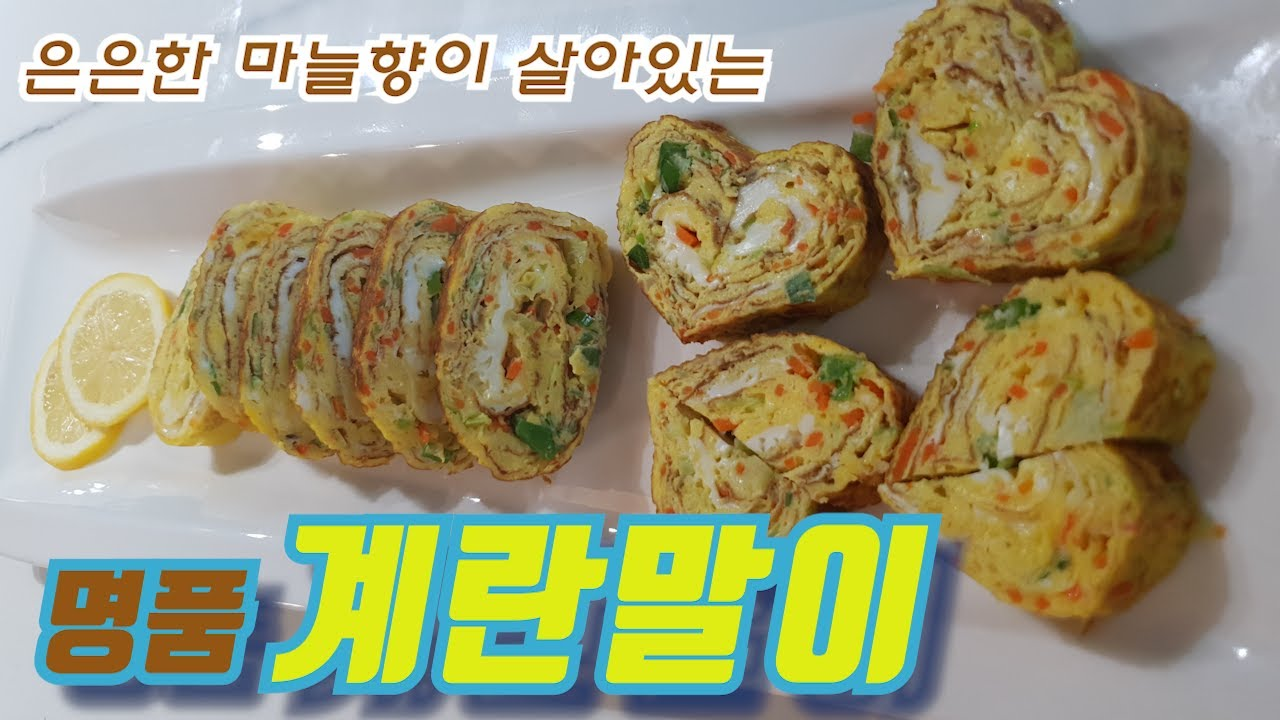gyelanmal-i: (163, 174, 1259, 509)
